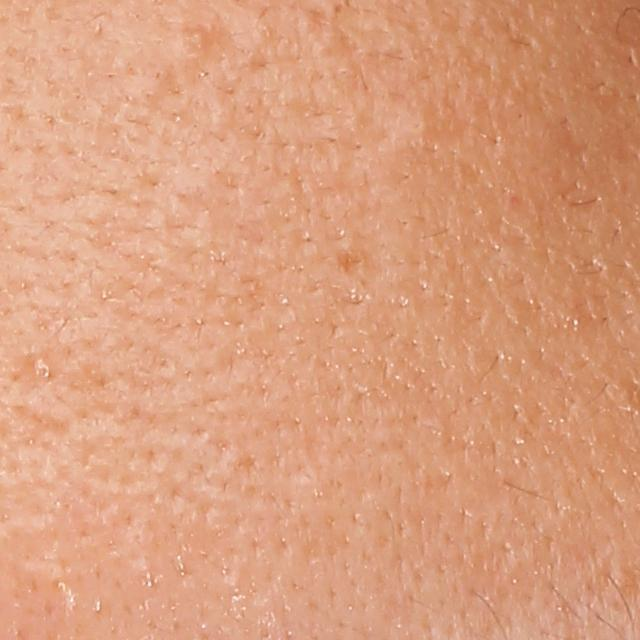comedo: (175, 19, 217, 62), (31, 354, 50, 378)
